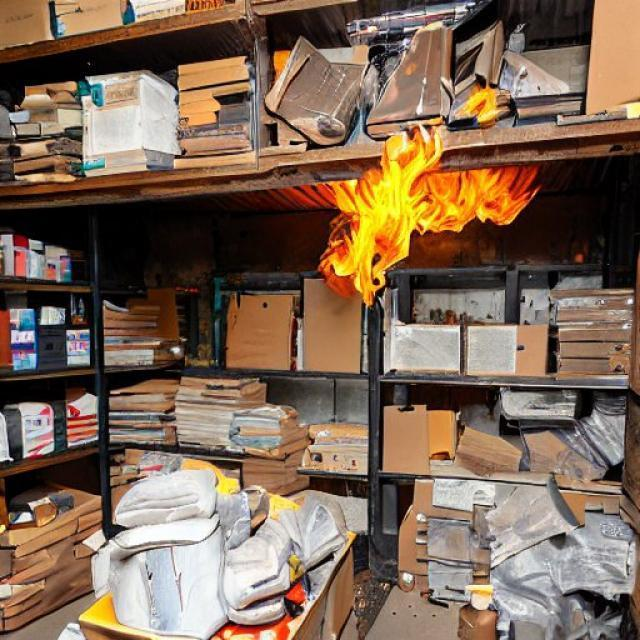Fire: (300, 80, 550, 314)
